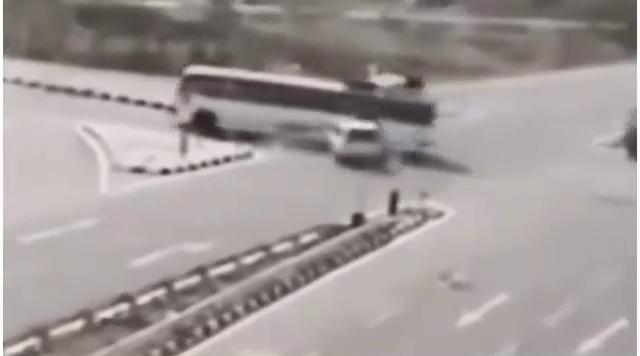car-accident: (174, 64, 446, 168)
